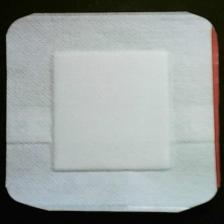Dressing: (7, 12, 221, 217)
Red_T: (198, 20, 223, 191)
